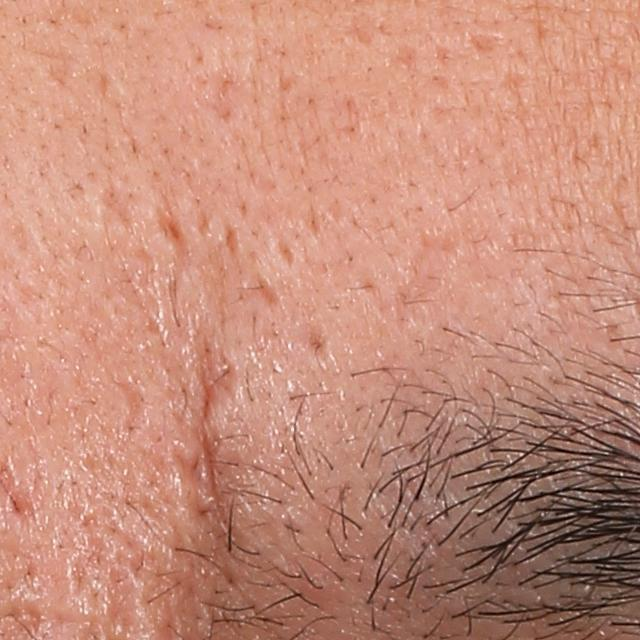atrophic_scar: (396, 230, 465, 332), (115, 371, 154, 427), (153, 197, 187, 247), (100, 185, 138, 228), (255, 268, 283, 309), (468, 29, 505, 59), (348, 12, 380, 46), (303, 327, 335, 359), (222, 217, 239, 260), (278, 241, 301, 271), (280, 74, 298, 97)
